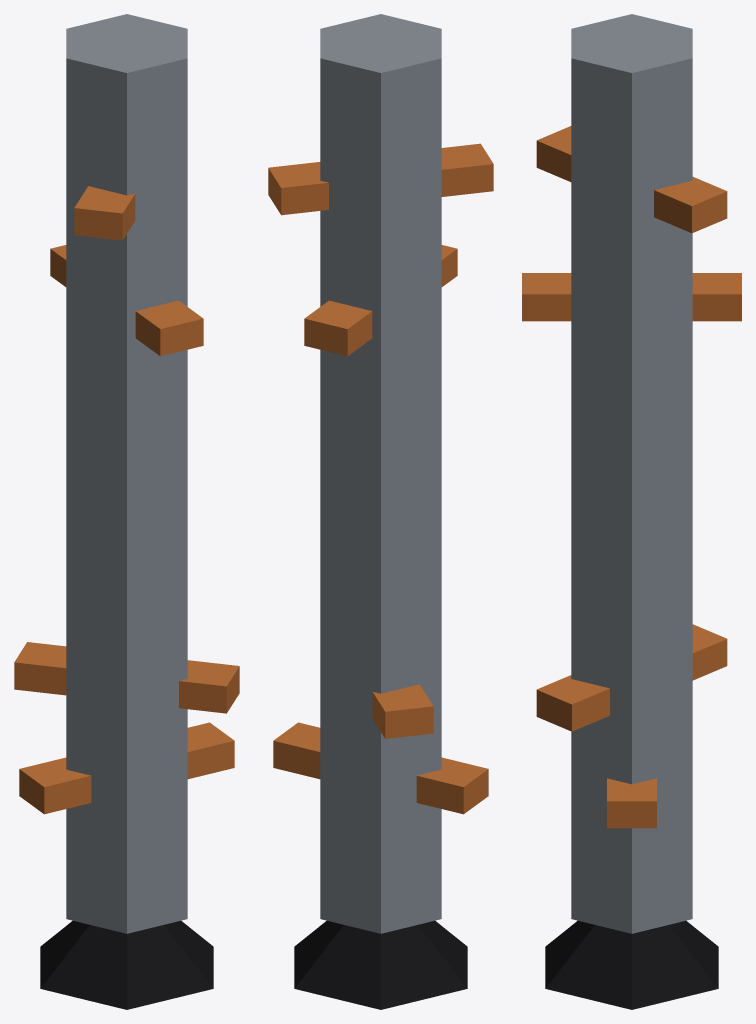
The model's file is extractor_1_drill.obj.
3 views of the same model, side by side, from view 1: azimuth 30°, elevation 25°; view 2: azimuth 150°, elevation 25°; view 3: azimuth 270°, elevation 25° (orthographic).
Visible parts, largest first — view 1: Body; view 2: Body; view 3: Body.
Part boxes in pixels (<box>): Body: <box>14,14,239,1009</box>; Body: <box>268,14,493,1009</box>; Body: <box>522,14,741,1009</box>.
Bounding box in the file's own units: 0.22 × 1.02 × 0.22.
